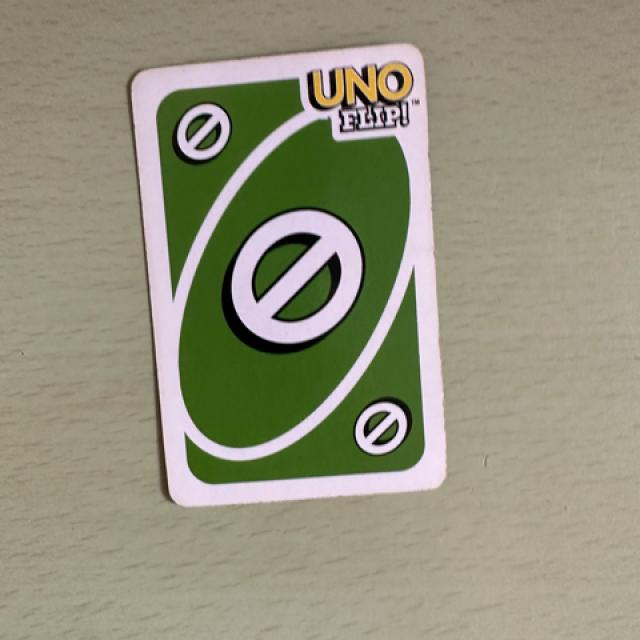lgreenskip-20: (152, 86, 247, 188)
